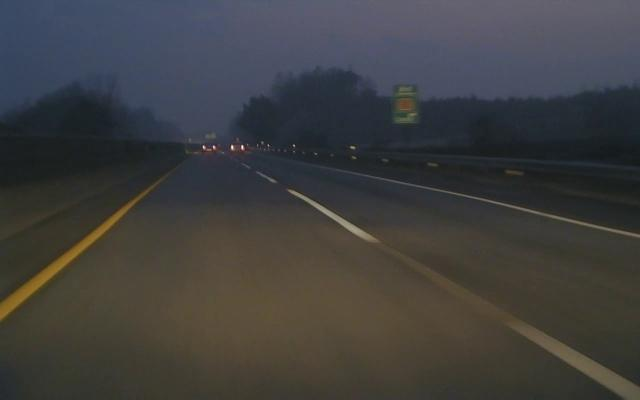lane: (260, 172, 636, 398), (2, 178, 163, 320), (372, 175, 640, 239)
